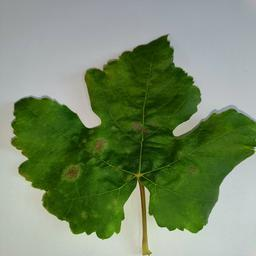Powdery-Mildew: (95, 195, 122, 233), (134, 119, 151, 136), (94, 137, 111, 153), (65, 164, 81, 180)
